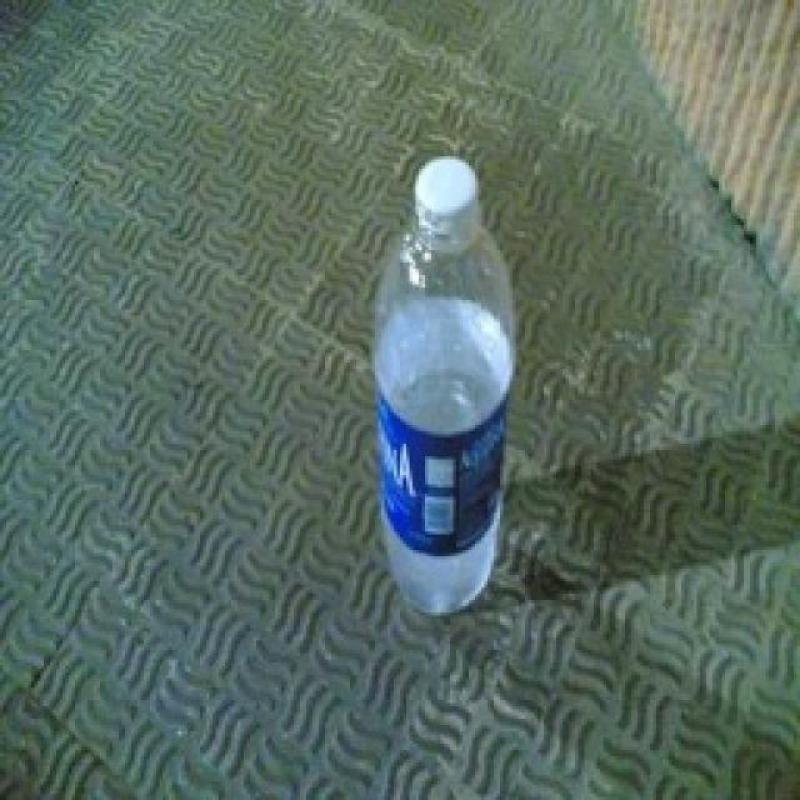botella: (370, 155, 518, 630)
